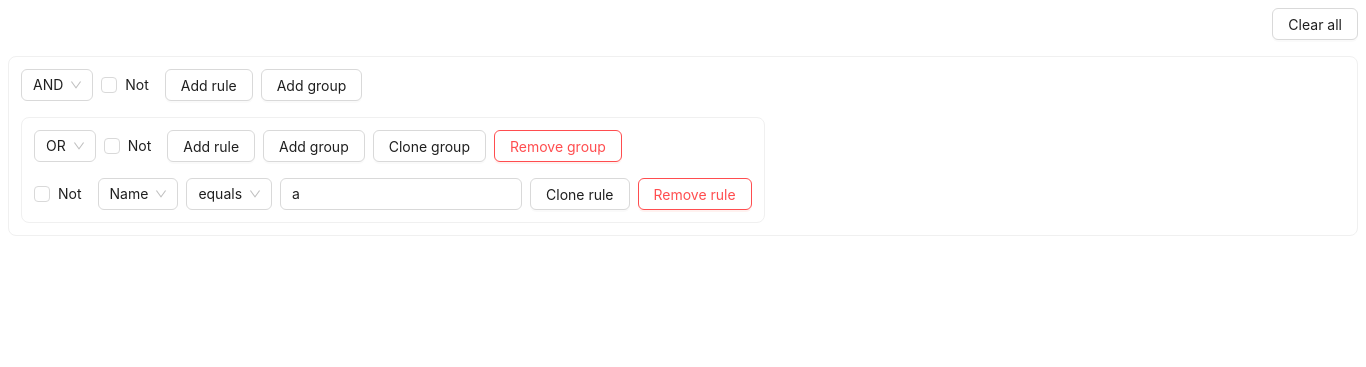
Test: AntdFilterBuilder clone › clones a non-root group and never the root
Click the button "Clone group": (429, 146) [373,130,486,162]
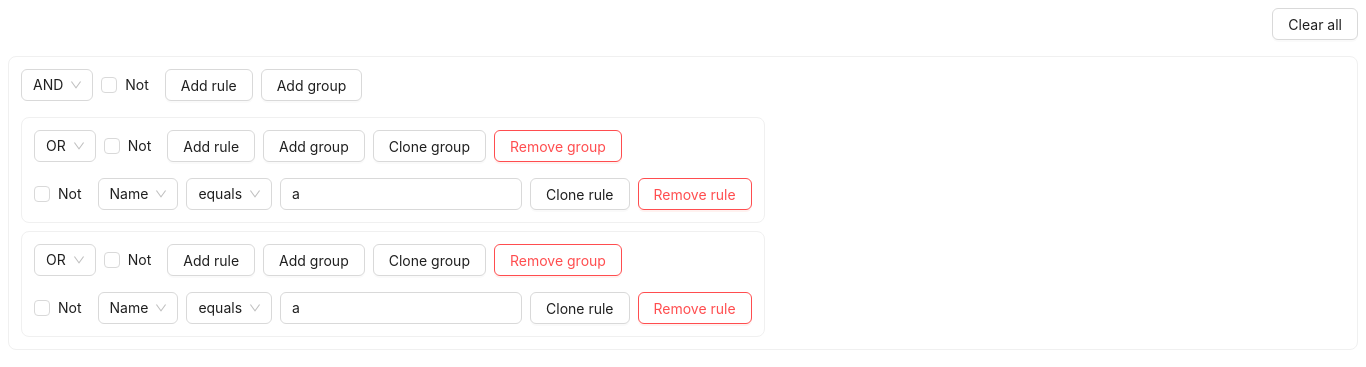
Expected: the number of buttons "Clone group" is 2, [373,130,486,162]; [373,244,486,276]
